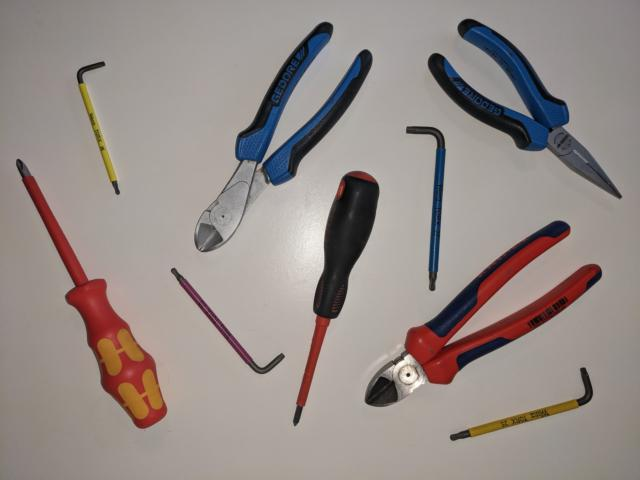Inbusschlüssel: (167, 264, 288, 377), (446, 364, 596, 445), (403, 123, 450, 293), (74, 58, 124, 197)
Schraubendreher: (13, 156, 170, 433), (290, 169, 382, 429)
Seitenschneider: (361, 218, 607, 410), (190, 18, 377, 257)
Zange: (425, 16, 626, 203)
